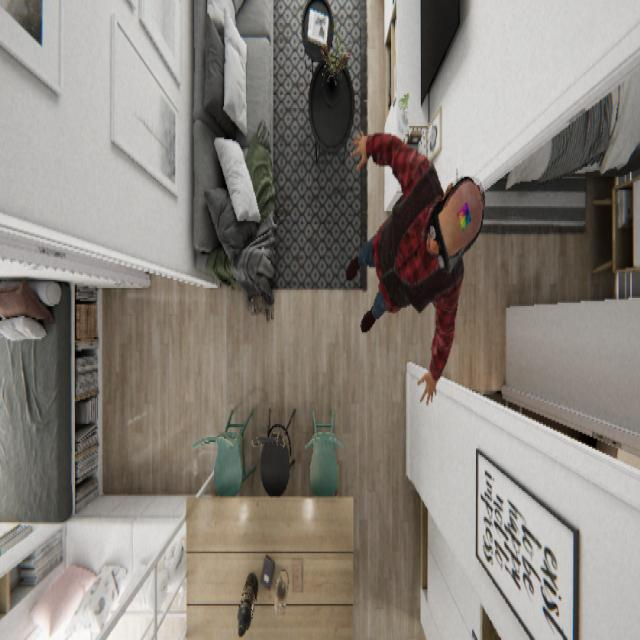Colored-Marker: (455, 198, 472, 232)
Human: (344, 126, 485, 406)
